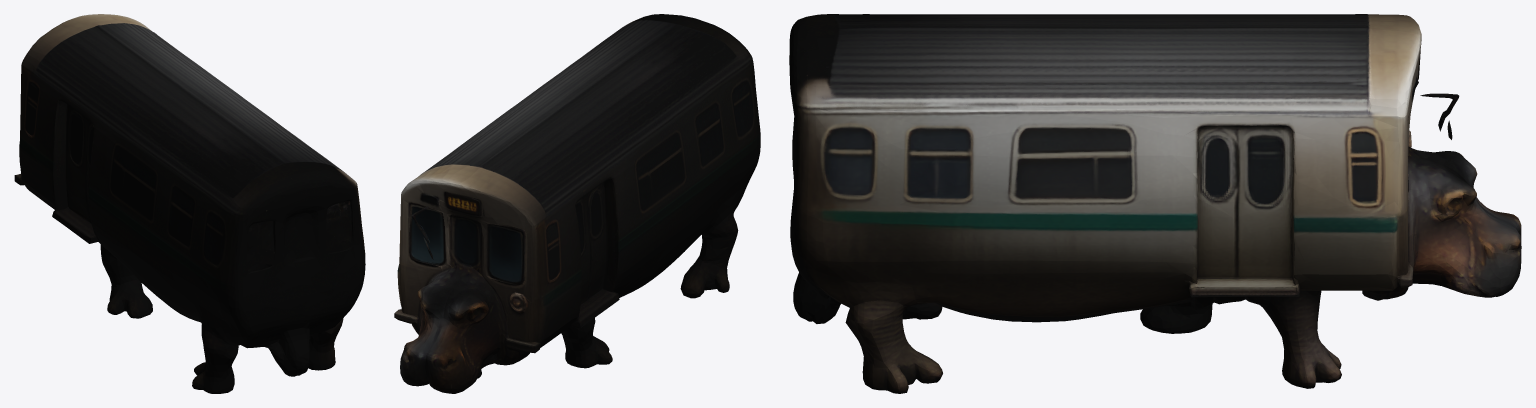
3 views of the same model, side by side, from view 1: azimuth 30°, elevation 25°; view 2: azimuth 150°, elevation 25°; view 3: azimuth 270°, elevation 25° (orthographic). The views are drawn at different scales.
Parts seen in each view (by area): view 1: world; view 2: world; view 3: world.
Boxes of the visible parts, bbox=[...] form: world: bbox=[14, 14, 365, 393]; world: bbox=[394, 14, 760, 393]; world: bbox=[789, 14, 1521, 393].
Size of the model in its own units: 0.3176 by 0.4815 by 0.9993.
